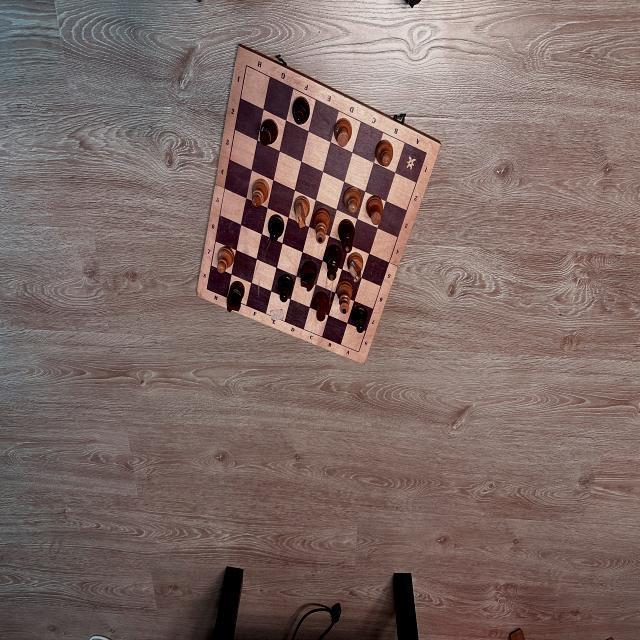chess-table-corners: (204, 286, 210, 292), (244, 62, 248, 68), (424, 150, 428, 156), (357, 350, 360, 354)
